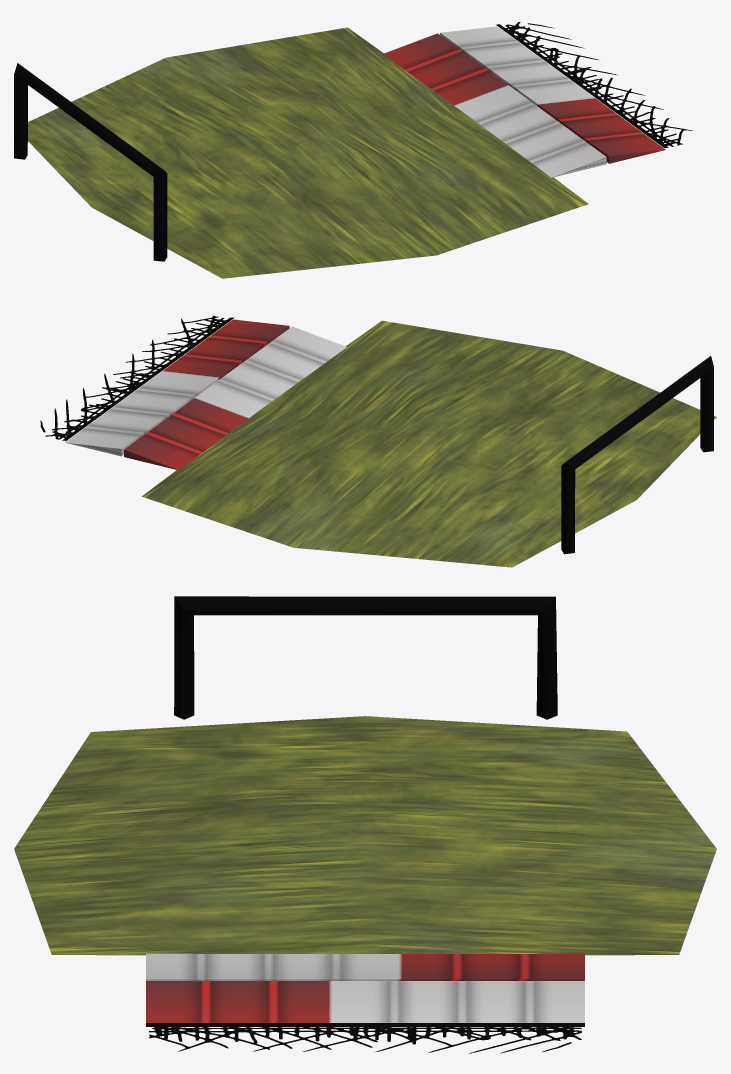
File: track_edge.glb
The picture shows the model from 3 angles, top to bottom: view 1: azimuth 30°, elevation 25°; view 2: azimuth 150°, elevation 25°; view 3: azimuth 270°, elevation 25°; orthographic projection. The views are drawn at different scales.
Visible parts, largest first — view 1: handrails, Plane.001; view 2: handrails, Plane.001; view 3: handrails, Plane.001.
Part boxes in pixels (left/top/right/bottom): handrails: left=14, top=24, right=668, bottom=278; Plane.001: left=505, top=22, right=692, bottom=146; handrails: left=62, top=317, right=716, bottom=567; Plane.001: left=40, top=315, right=226, bottom=439; handrails: left=14, top=596, right=716, bottom=1026; Plane.001: left=149, top=1027, right=581, bottom=1053.
Bounding box in the file's own units: 1.88 × 0.2988 × 1.6.
4 materials, 3 textured.
